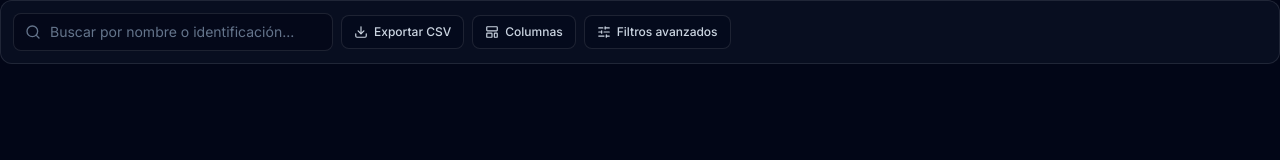
Test: CompanyFilters › renders select inputs and Otros campos button when advanced filters are opened
Click the button "Filtros avanzados": {"x": 657, "y": 32} [584,15,731,49]
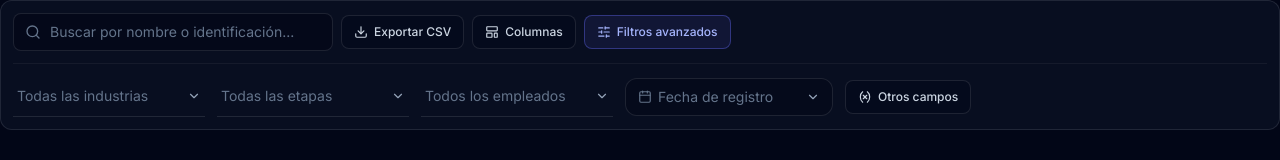
Now the text "Todas las industrias" is shown, box [17,86,148,106]
Now the text "Todas las etapas" is shown, box [221,86,332,106]
Now the text "Todos los empleados" is shown, box [425,86,566,106]
